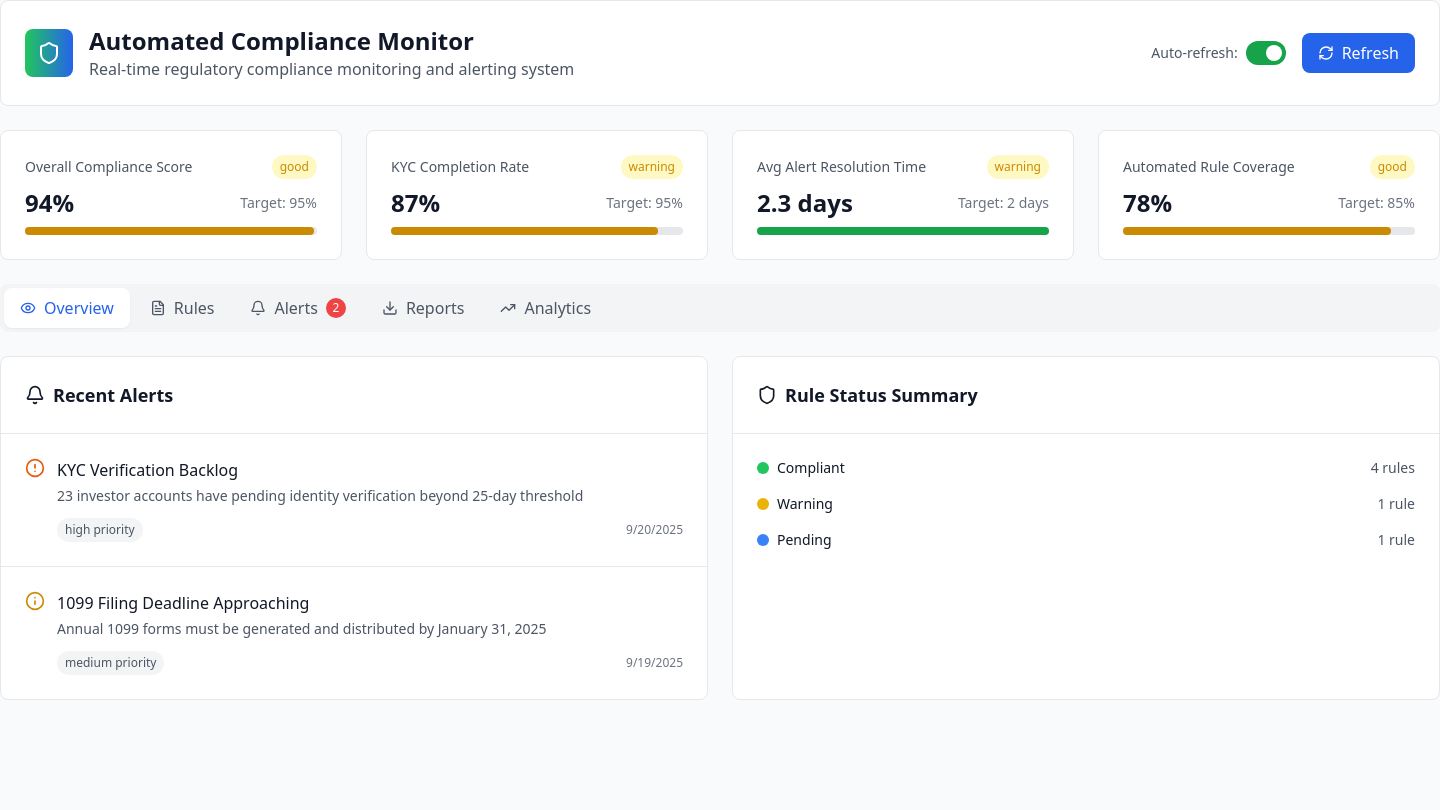
Test: AutomatedComplianceMonitor › displays alert resolution steps
Click the text "Alerts".
click(296, 308)  # box [274,296,318,320]
(page scrolled)
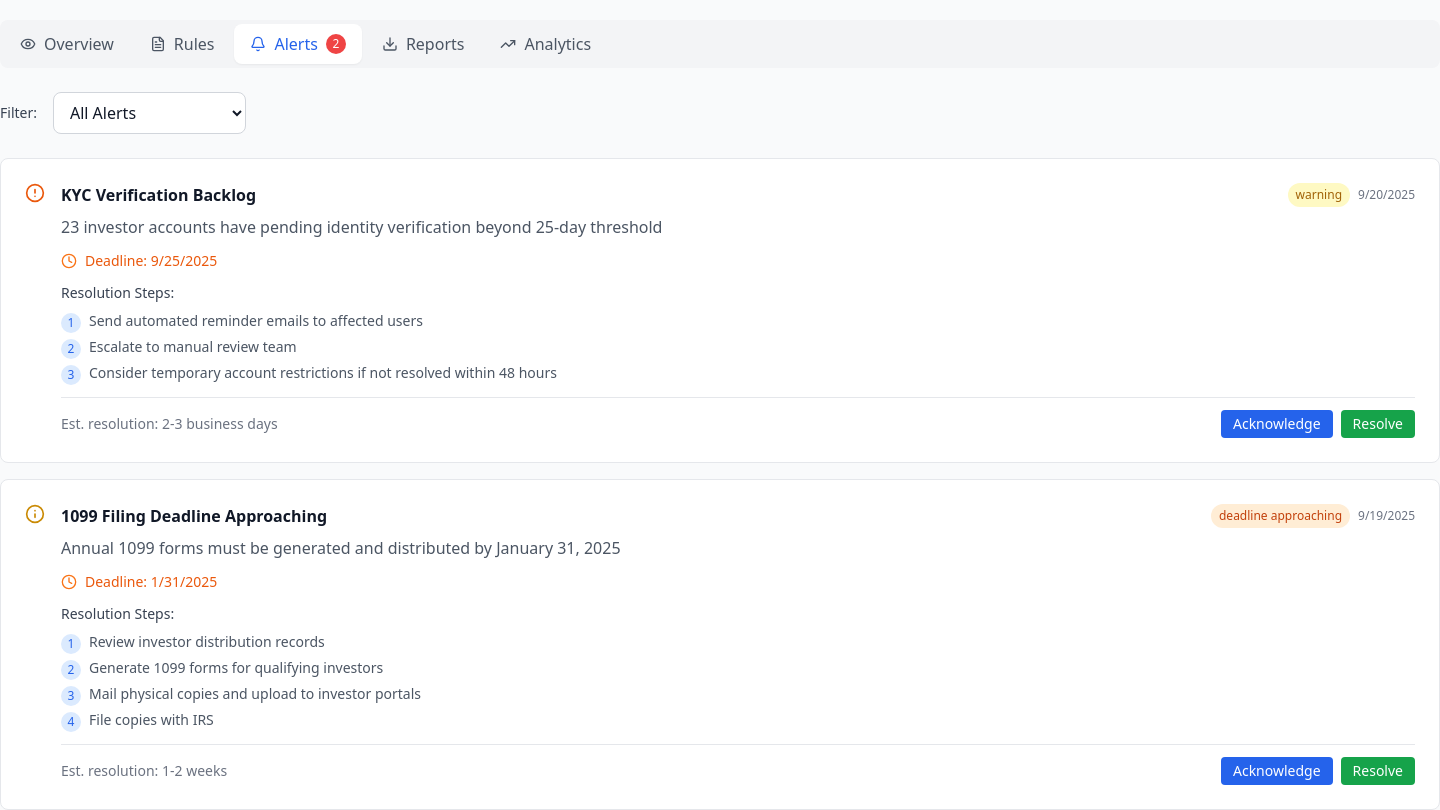
Result: the list item "1 Send automated reminder emails to affected users" is shown at [61,311,423,333]
Result: the list item "1 Review investor distribution records" is shown at [61,632,325,654]
